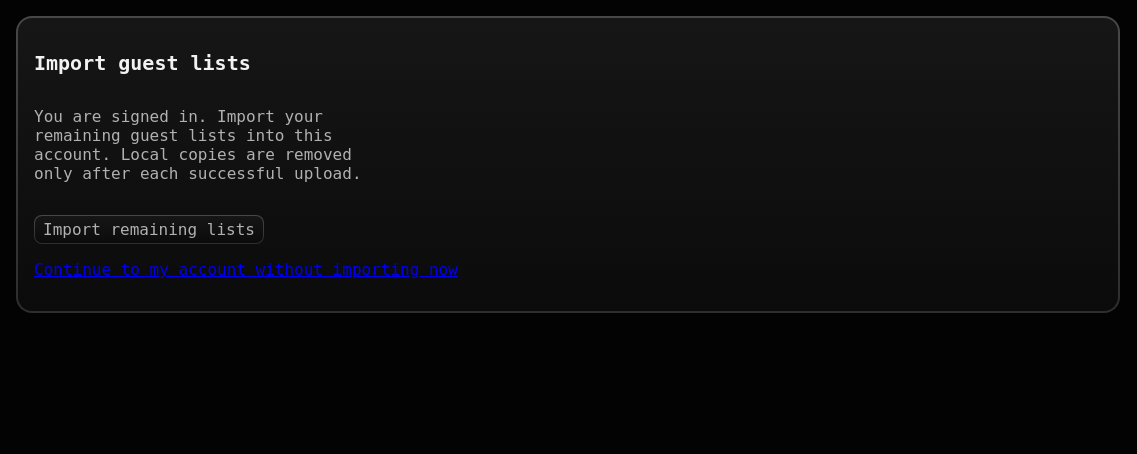
Test: signed-in users can retry an import without entering credentials again
Later steps or results of the test are not shown.
Expected: the heading "Import guest lists" is shown, [34,51,251,75]
Click the button "Import remaining lists".
click(149, 230)  # box [34,215,264,244]
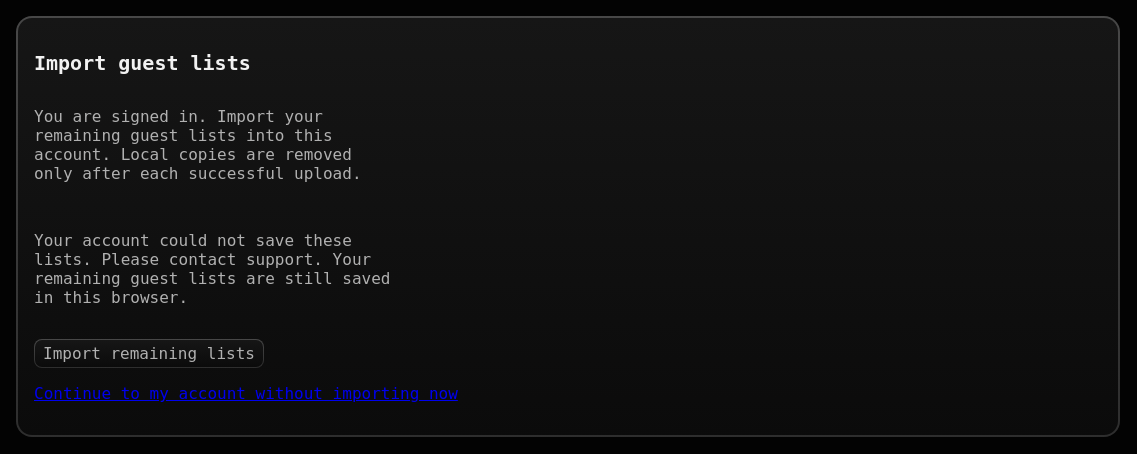
Expected: the link "Continue to my account without importing now" is shown, [34,384,458,403]
Expected: the text "Your account could not save these lists. Please contact support. Your remaining guest lists are still saved in this brow" is shown, [34,231,390,307]
